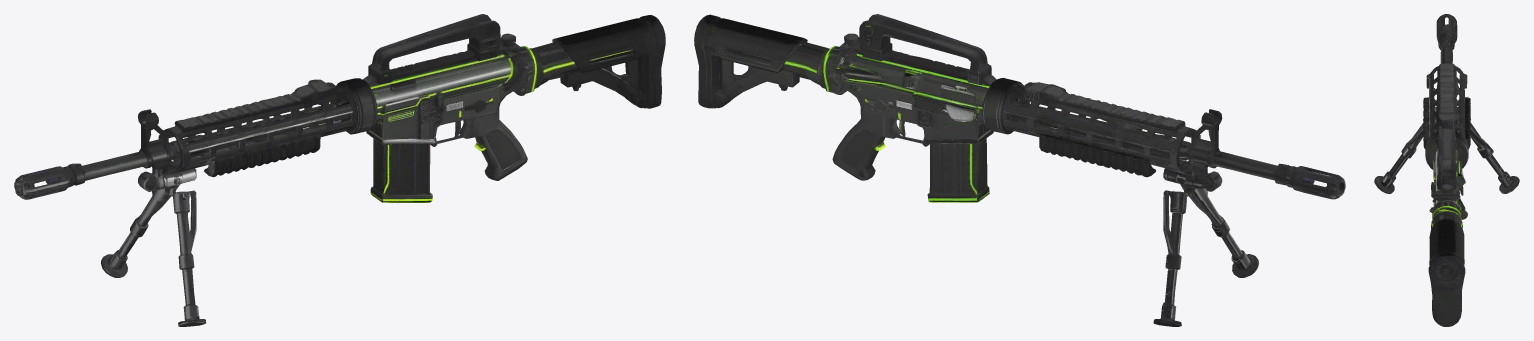
Rendered from gun_lmg.glb.
The picture shows the model from 3 angles, left to right: view 1: azimuth 30°, elevation 25°; view 2: azimuth 150°, elevation 25°; view 3: azimuth 270°, elevation 25°; orthographic projection. The views are drawn at different scales.
Parts seen in each view (by area): view 1: Mesh_0; view 2: Mesh_0; view 3: Mesh_0.
Boxes of the visible parts, box(x1,y1,x2,y2) form: Mesh_0: box(14, 14, 665, 326); Mesh_0: box(694, 14, 1345, 326); Mesh_0: box(1374, 14, 1519, 326).
Bounding box in the file's own units: 1.9 × 0.5793 × 0.468.
1 material, 1 textured.
